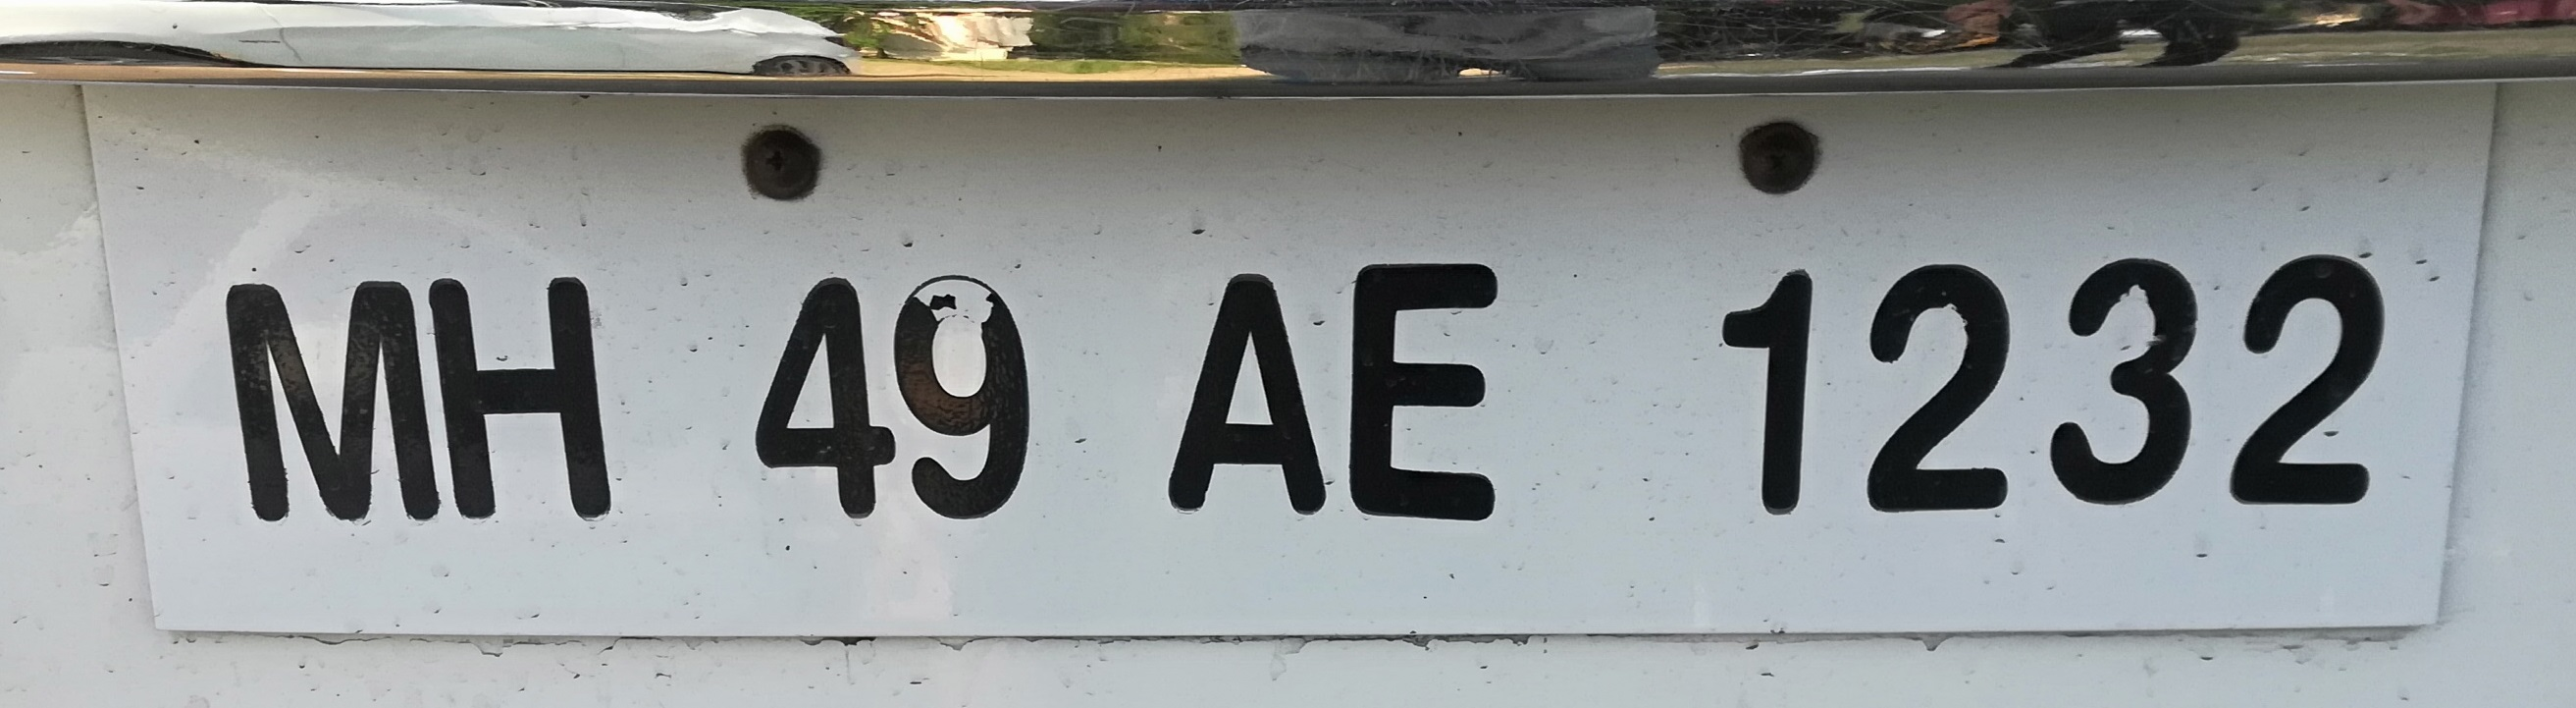numberplate: (78, 77, 2505, 648)
